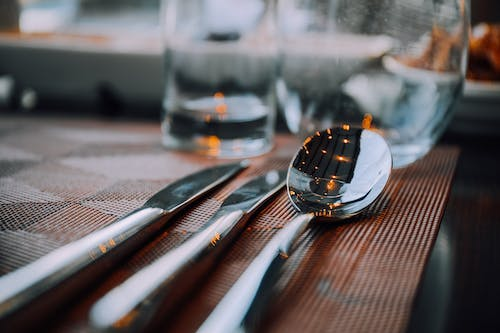knife: (0, 159, 253, 318), (86, 168, 288, 333)
